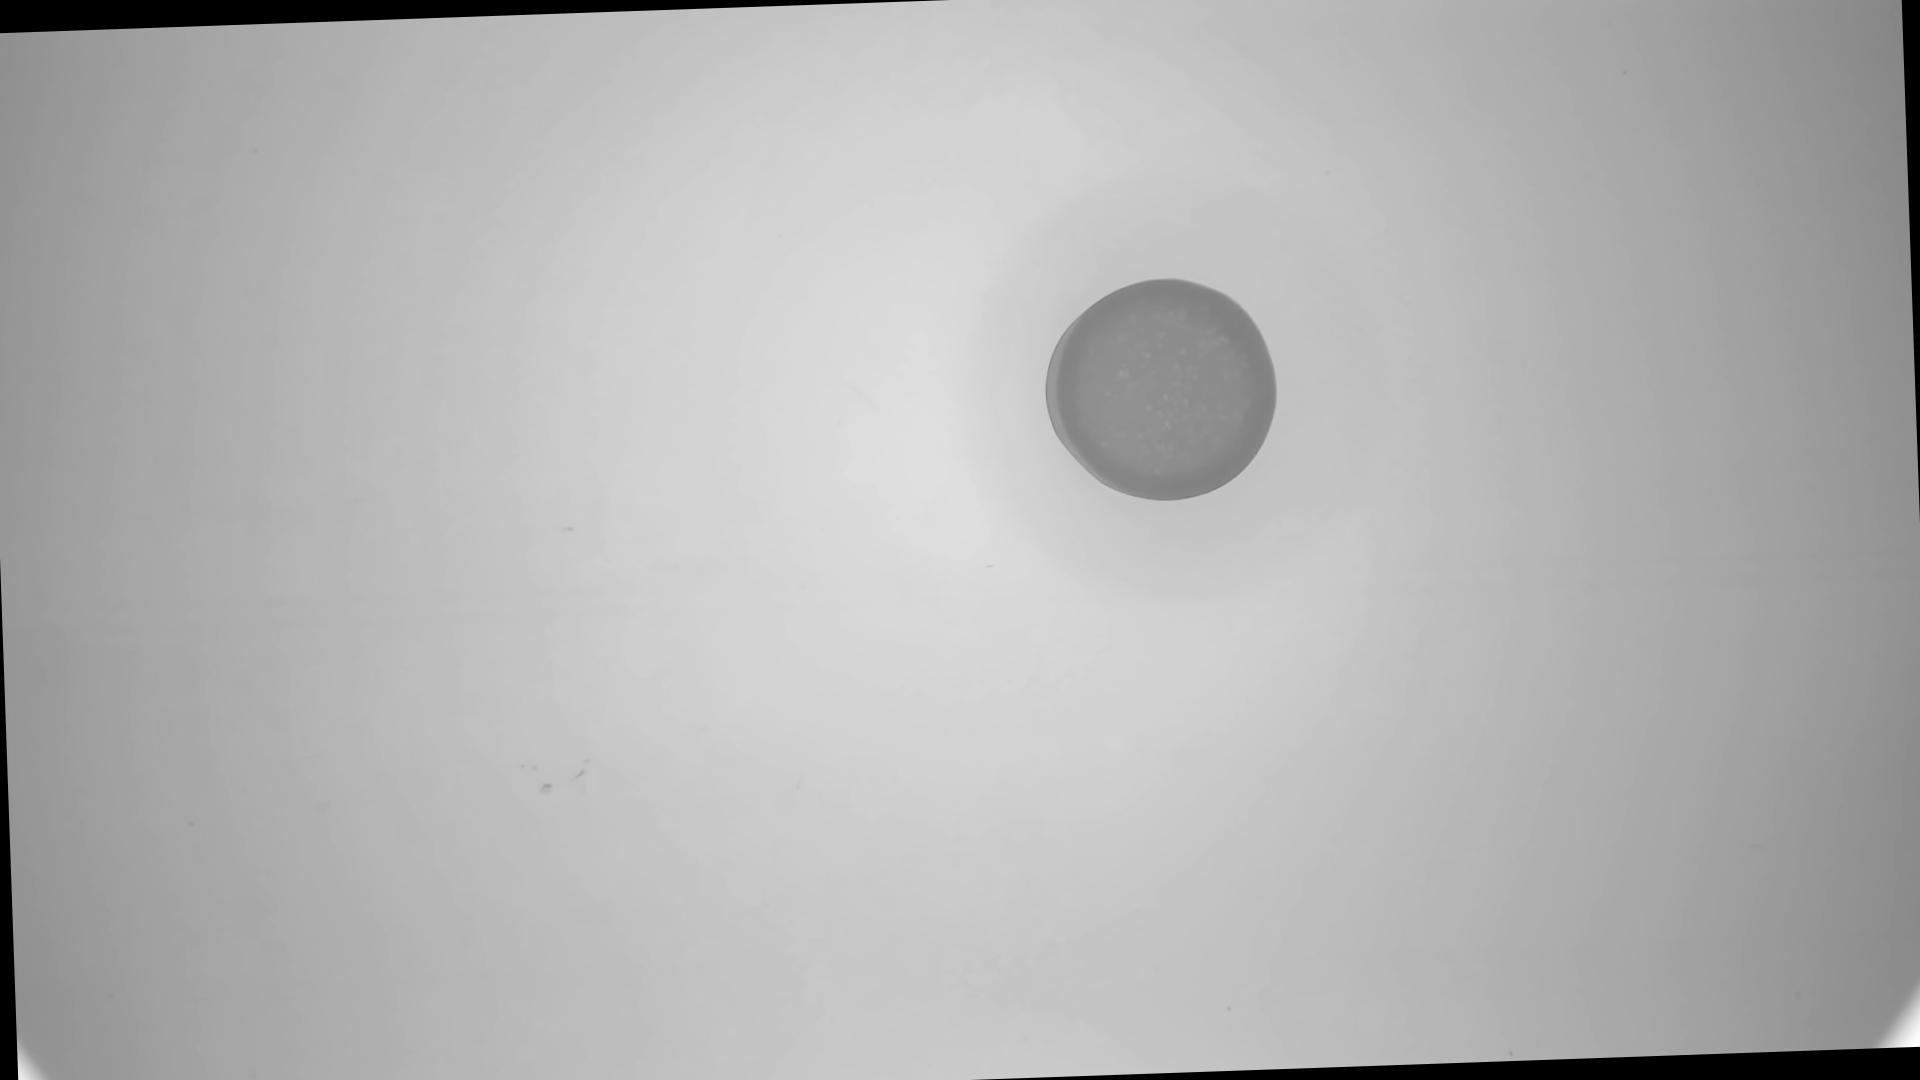normal: (1040, 272, 1284, 508)
